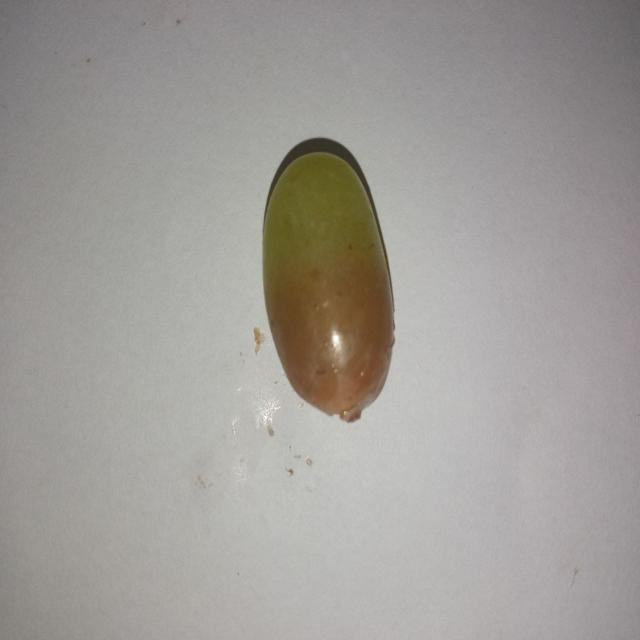rotten_grape: (257, 136, 397, 428)
